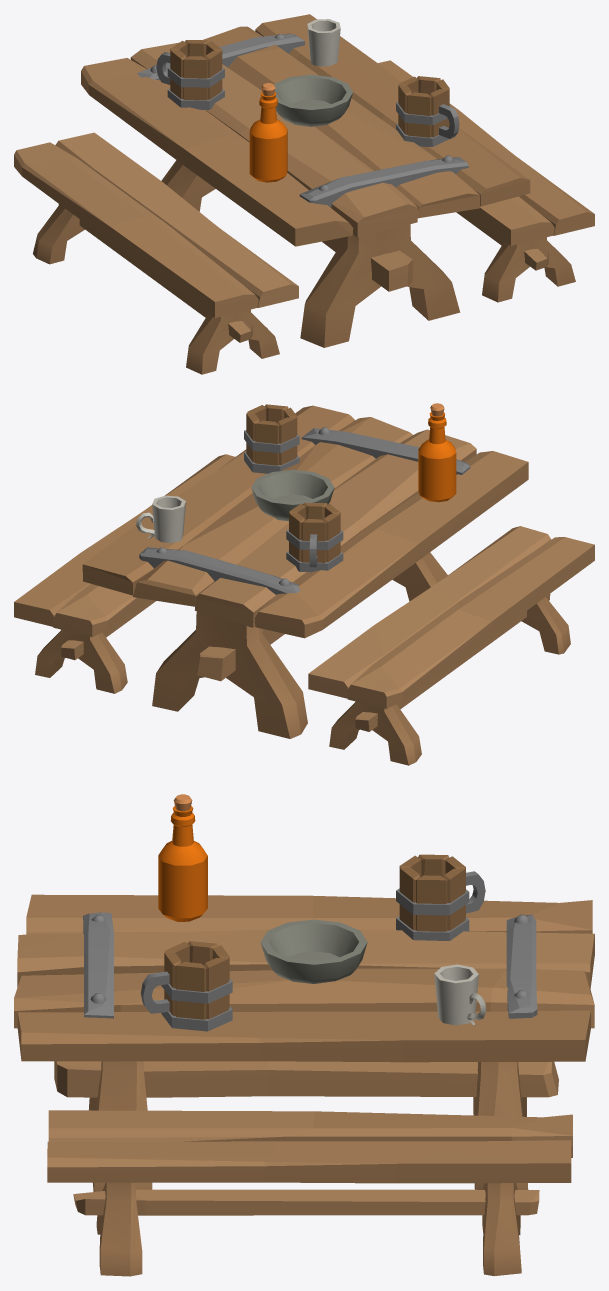
File: Market_Table_B.fbx
3 views of the same model, one above another, from view 1: azimuth 30°, elevation 25°; view 2: azimuth 150°, elevation 25°; view 3: azimuth 270°, elevation 25° (orthographic). The views are drawn at different scales.
Visible parts, largest first — view 1: Market_Table_B; view 2: Market_Table_B; view 3: Market_Table_B.
Boxes of the visible parts, left/top/right/bottom form: Market_Table_B: left=14, top=14, right=594, bottom=374; Market_Table_B: left=14, top=403, right=594, bottom=765; Market_Table_B: left=14, top=794, right=594, bottom=1276.
Size of the model in its own units: 214 by 128 by 220.
